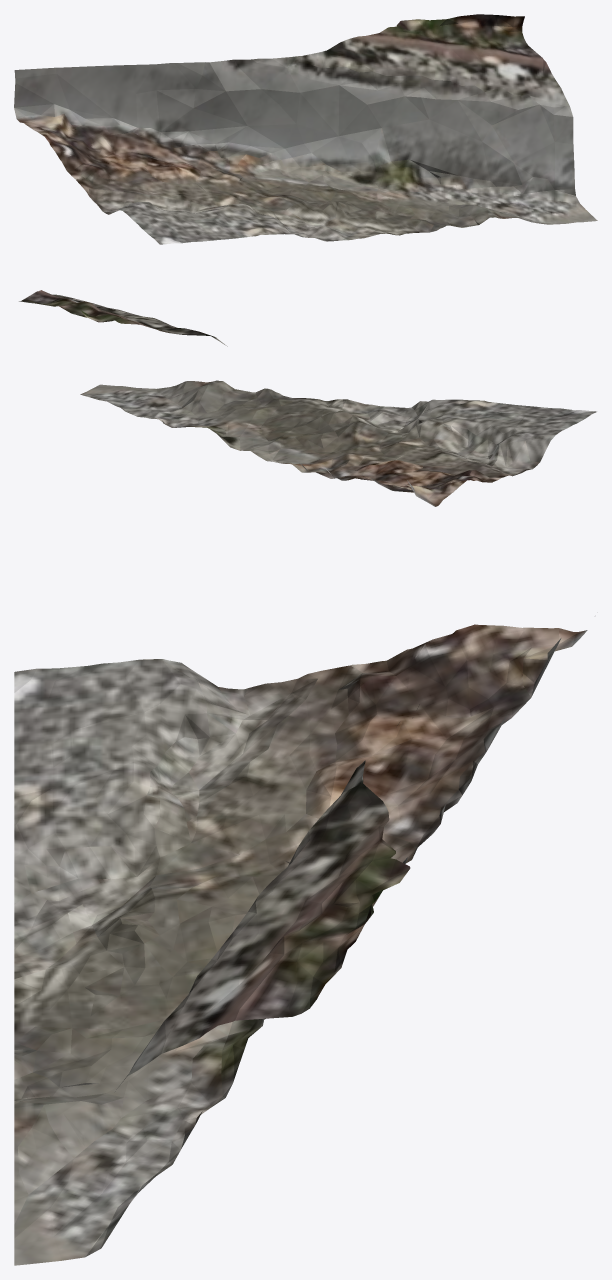
3 renders of one model, top to bottom at view 1: azimuth 30°, elevation 25°; view 2: azimuth 150°, elevation 25°; view 3: azimuth 270°, elevation 25°, orthographic. The views are drawn at different scales.
Size of the model in its own units: 0.8374 by 0.2766 by 0.4829.
2 materials, 2 textured.
